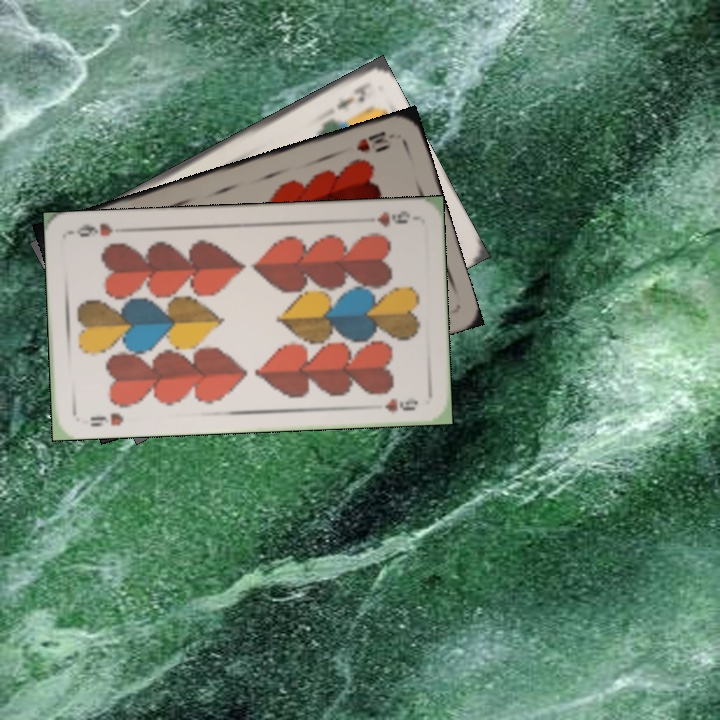EK: (333, 82, 370, 113)
H10: (352, 127, 395, 155)
H9: (373, 206, 412, 230), (86, 408, 126, 430)
